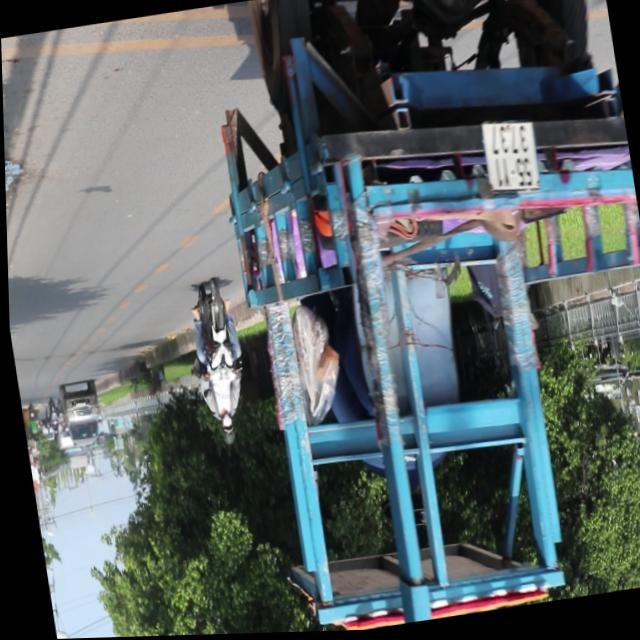helmet: (215, 414, 235, 447)
licenseplate: (180, 278, 253, 451)
